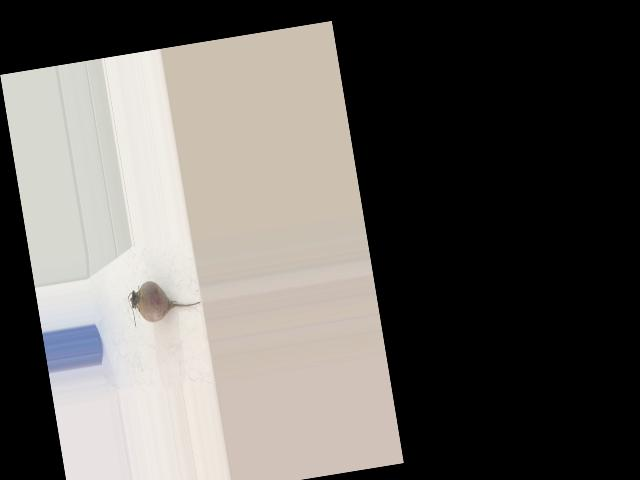beet: (125, 274, 203, 329)
